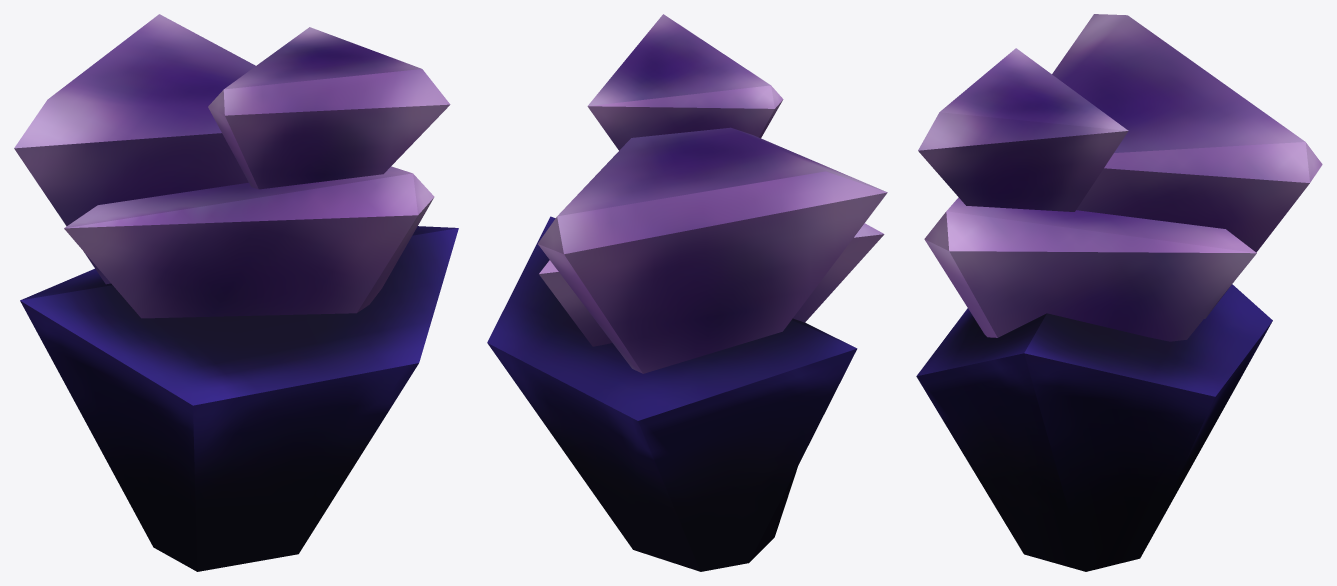
The model's file is PyramidStone.fbx.
The picture shows the model from 3 angles, left to right: view 1: azimuth 30°, elevation 25°; view 2: azimuth 150°, elevation 25°; view 3: azimuth 270°, elevation 25°; orthographic projection. The views are drawn at different scales.
Visible parts, largest first — view 1: PyramidStone_Model; view 2: PyramidStone_Model; view 3: PyramidStone_Model.
Part boxes in pixels (x1,y1,x2,y2): PyramidStone_Model: (14, 14, 458, 571); PyramidStone_Model: (487, 14, 887, 571); PyramidStone_Model: (916, 14, 1322, 571).
Bounding box in the file's own units: 170 × 198 × 152.
1 material, 1 textured.
